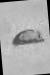X1: (2, 0, 49, 74)
